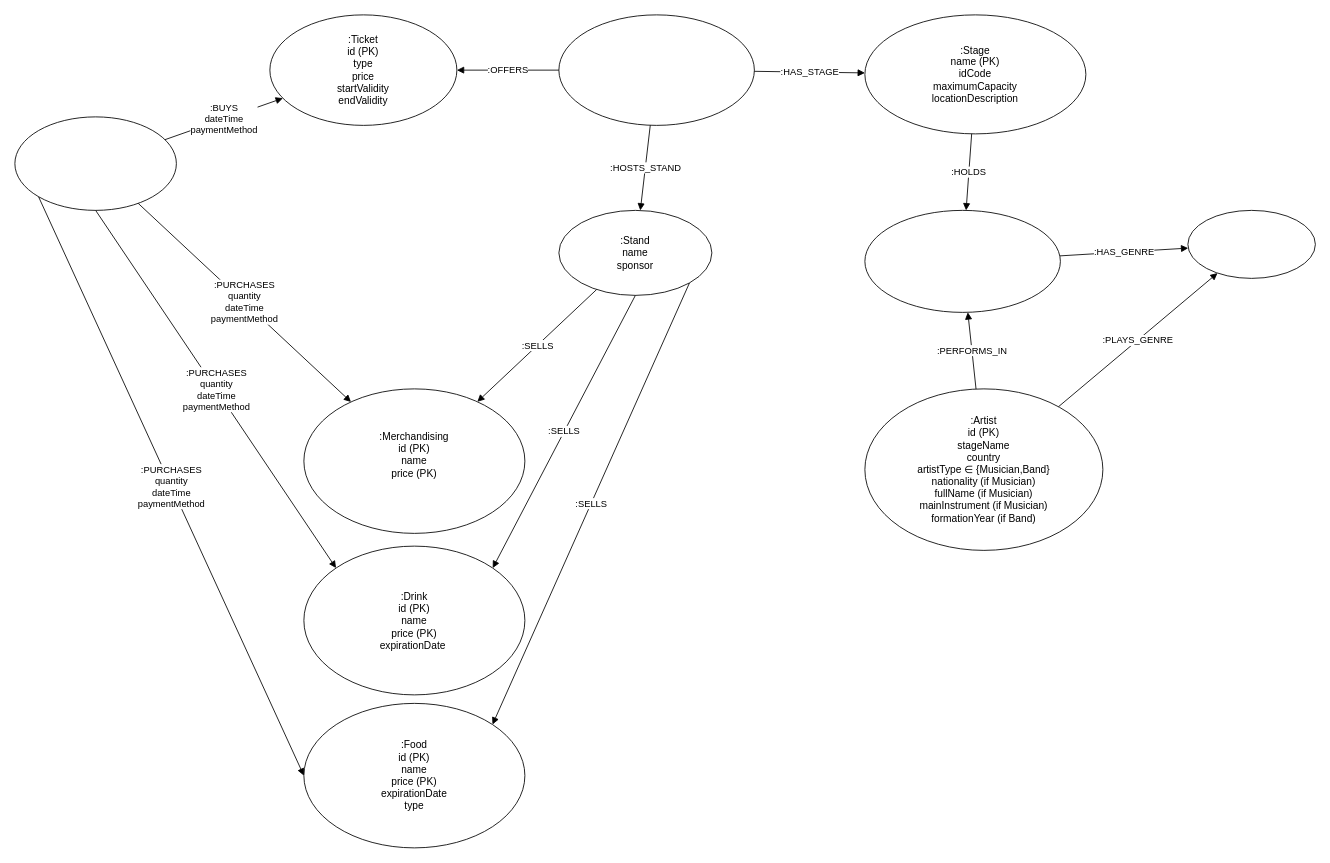
Image size: 1330x863. Some labels were removed from this diagram. The centre of each missing label's shape, as x and y in pixels:
:Festival name (PK) startDate (PK) endDate location: point (656, 69)
:Genre name (PK): point (1251, 244)
:Performance id (PK) title startTime endTime: point (962, 261)
:Person email (PK) fullName phoneNumber: point (95, 163)
